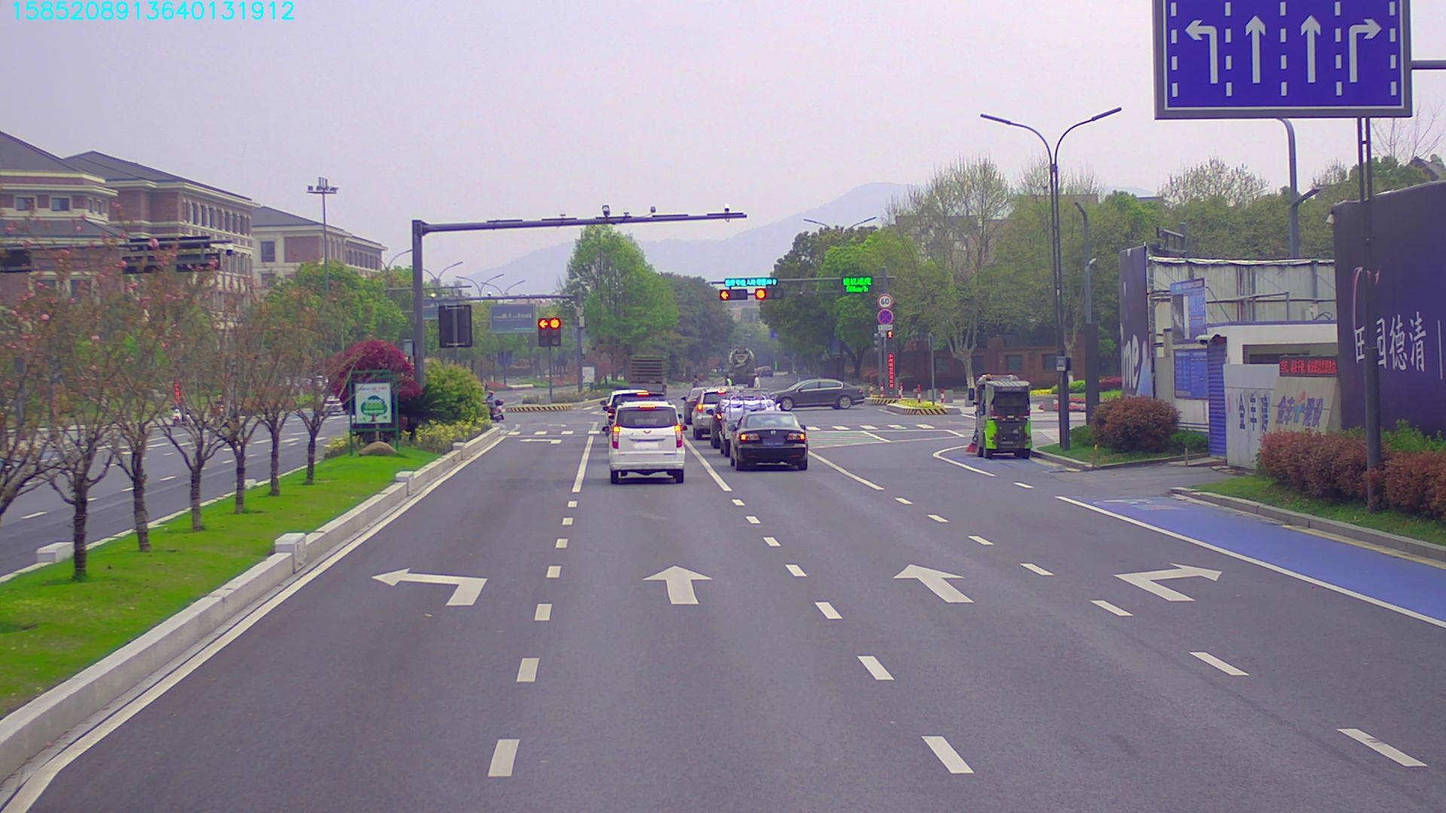red: (717, 286, 744, 300), (755, 290, 778, 297)
wait_on: (724, 273, 771, 285)
